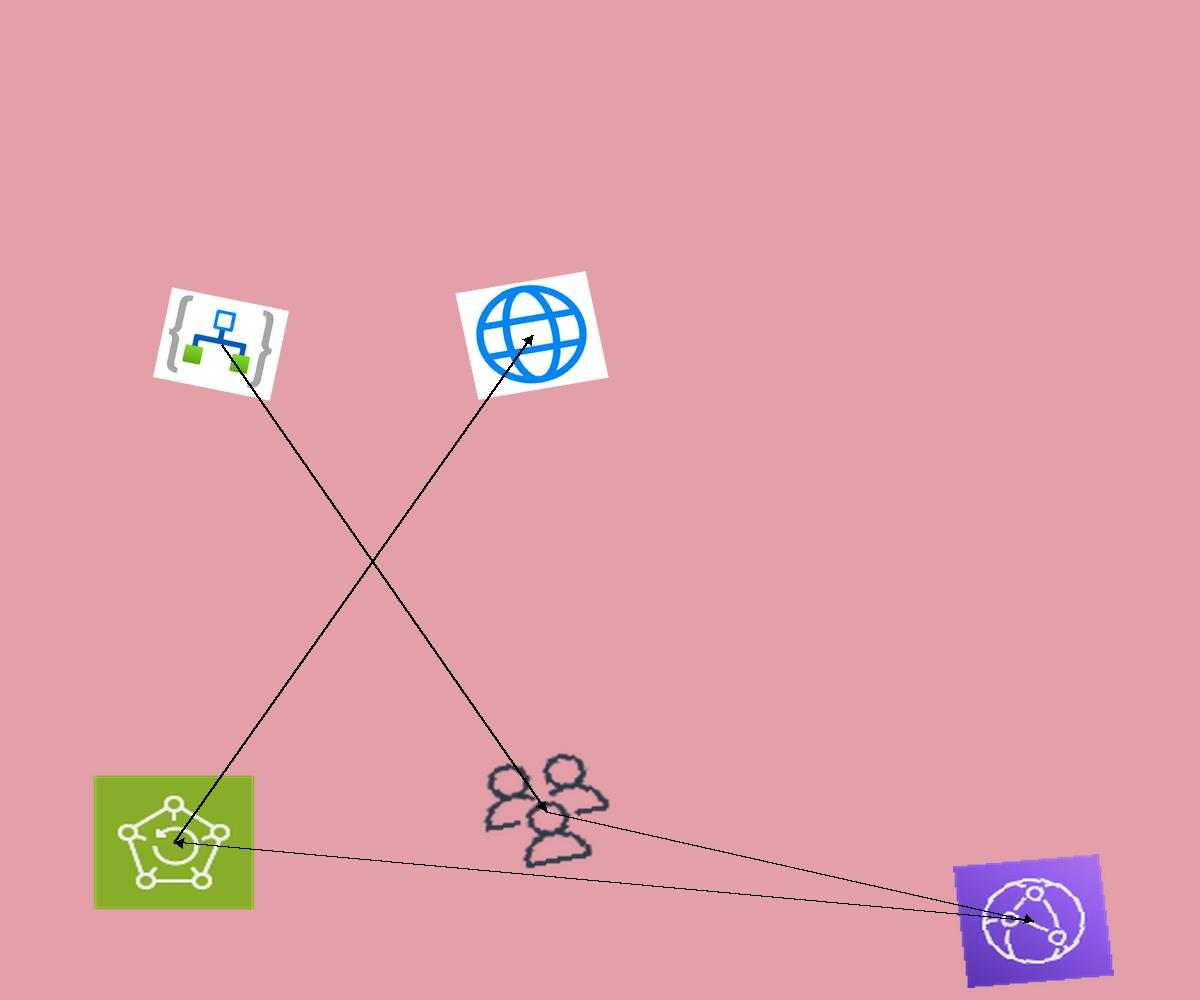AWS-Backup: (92, 774, 256, 911)
AWS-CloudFront: (953, 854, 1114, 988)
AWS-Res_Users: (463, 742, 629, 880)
Azure_http: (455, 271, 609, 400)
Azure_integration-204-Logic-Apps: (153, 287, 289, 401)
